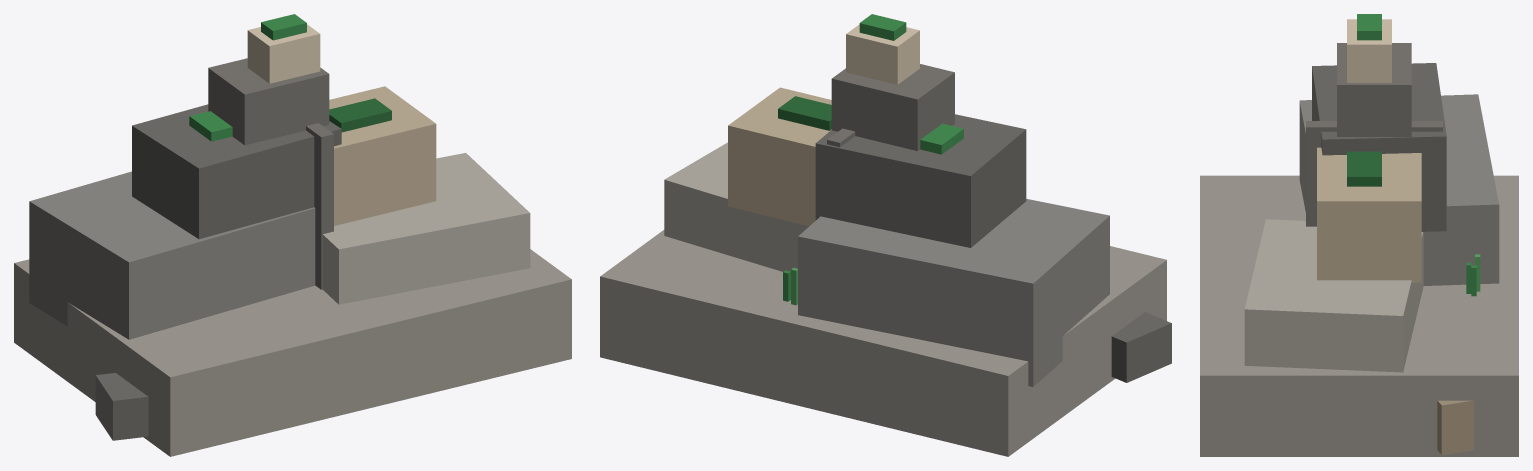
File: vn_rock_large.glb
The picture shows the model from 3 angles, left to right: view 1: azimuth 30°, elevation 25°; view 2: azimuth 150°, elevation 25°; view 3: azimuth 270°, elevation 25°; orthographic projection. The views are drawn at different scales.
Parts seen in each view (by area): view 1: rock_large; view 2: rock_large; view 3: rock_large.
Boxes of the visible parts, bbox=[...] form: rock_large: bbox=[14, 14, 571, 456]; rock_large: bbox=[600, 14, 1171, 456]; rock_large: bbox=[1200, 14, 1518, 456].
Size of the model in its own units: 2.09 by 1.47 by 1.28.
